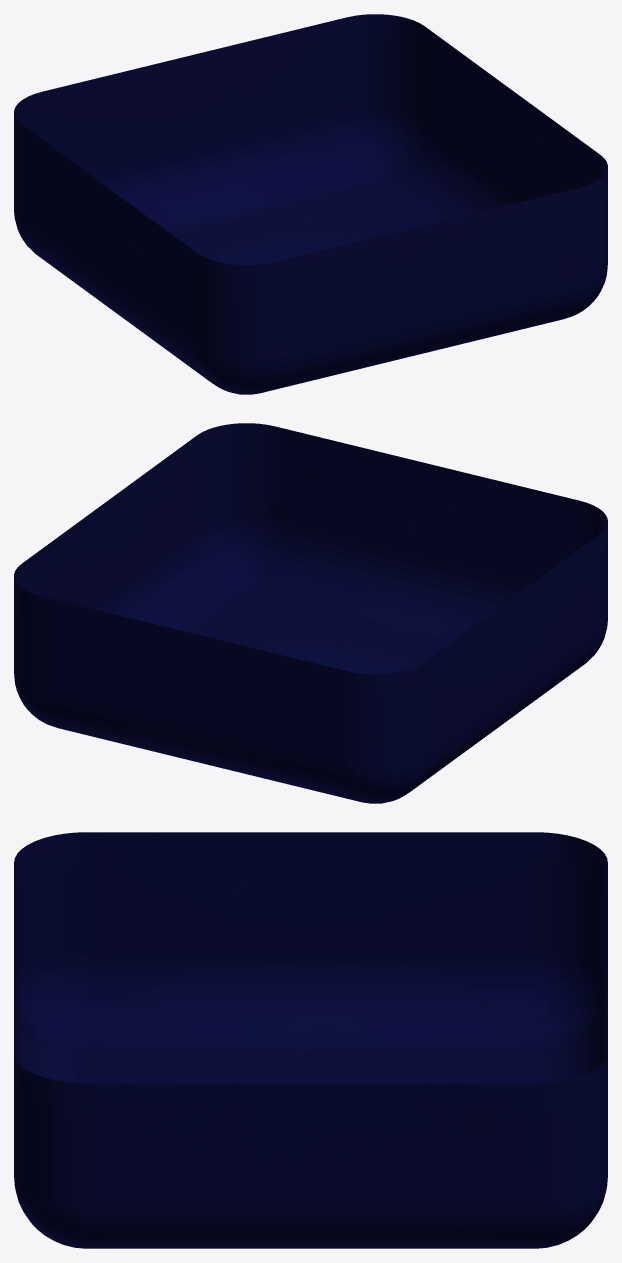
File: plan_outside.glb
3 renders of one model, top to bottom at view 1: azimuth 30°, elevation 25°; view 2: azimuth 150°, elevation 25°; view 3: azimuth 270°, elevation 25°, orthographic. The views are drawn at different scales.
Visible parts, largest first — view 1: plan_outside; view 2: plan_outside; view 3: plan_outside.
Boxes of the visible parts, x1,y1,x2,y2 form: plan_outside: [14, 14, 607, 394]; plan_outside: [14, 423, 607, 803]; plan_outside: [14, 832, 607, 1248].
Size of the model in its own units: 568 by 200 by 568.
Materials: 1 (1 with a texture image).
